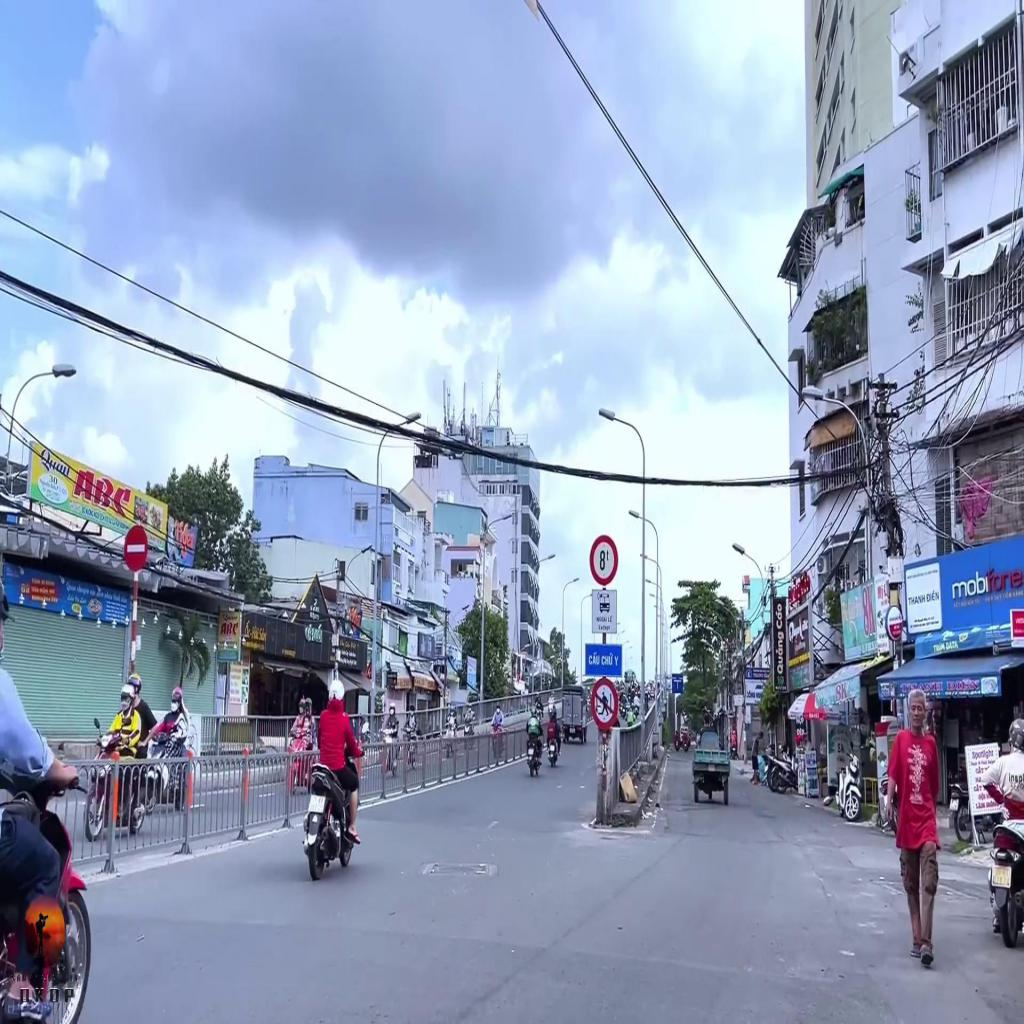cam_xe_di_nguoc_chieu: (124, 525, 148, 571)
khac: (590, 534, 619, 586), (591, 678, 618, 729), (584, 645, 622, 677), (592, 592, 617, 632), (672, 674, 683, 693)
